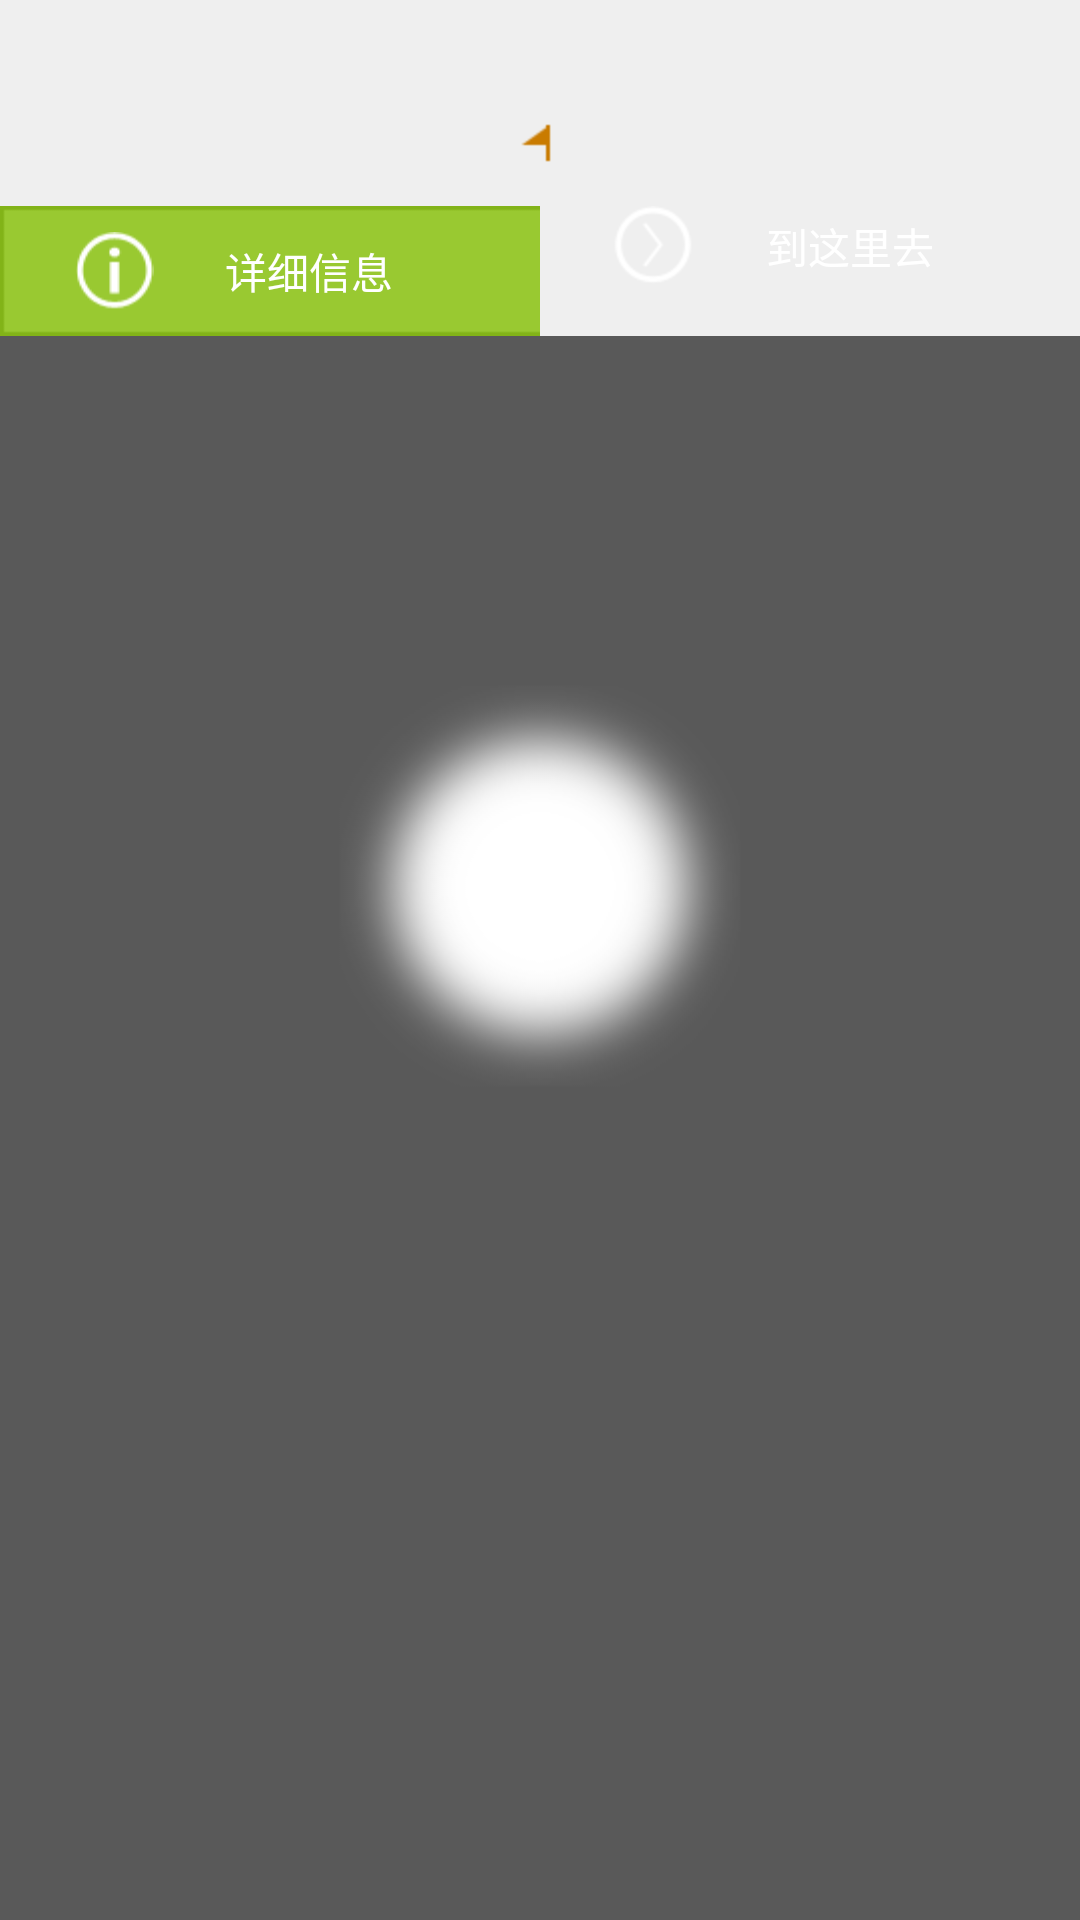

Where to tap for icons on this 1080 x 1920 app screen, as (x=x, y=y):
moreinfo: (x=115, y=270)
